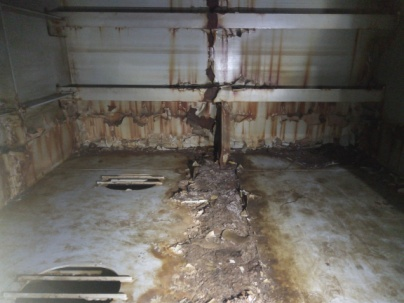corrosion: (155, 158, 293, 303), (6, 96, 69, 198), (68, 101, 198, 149), (259, 108, 330, 153), (231, 32, 291, 83), (197, 101, 246, 152), (193, 26, 226, 80), (56, 23, 78, 78), (162, 32, 183, 83), (190, 0, 258, 9), (196, 80, 228, 98), (301, 57, 322, 83), (242, 106, 264, 123)
